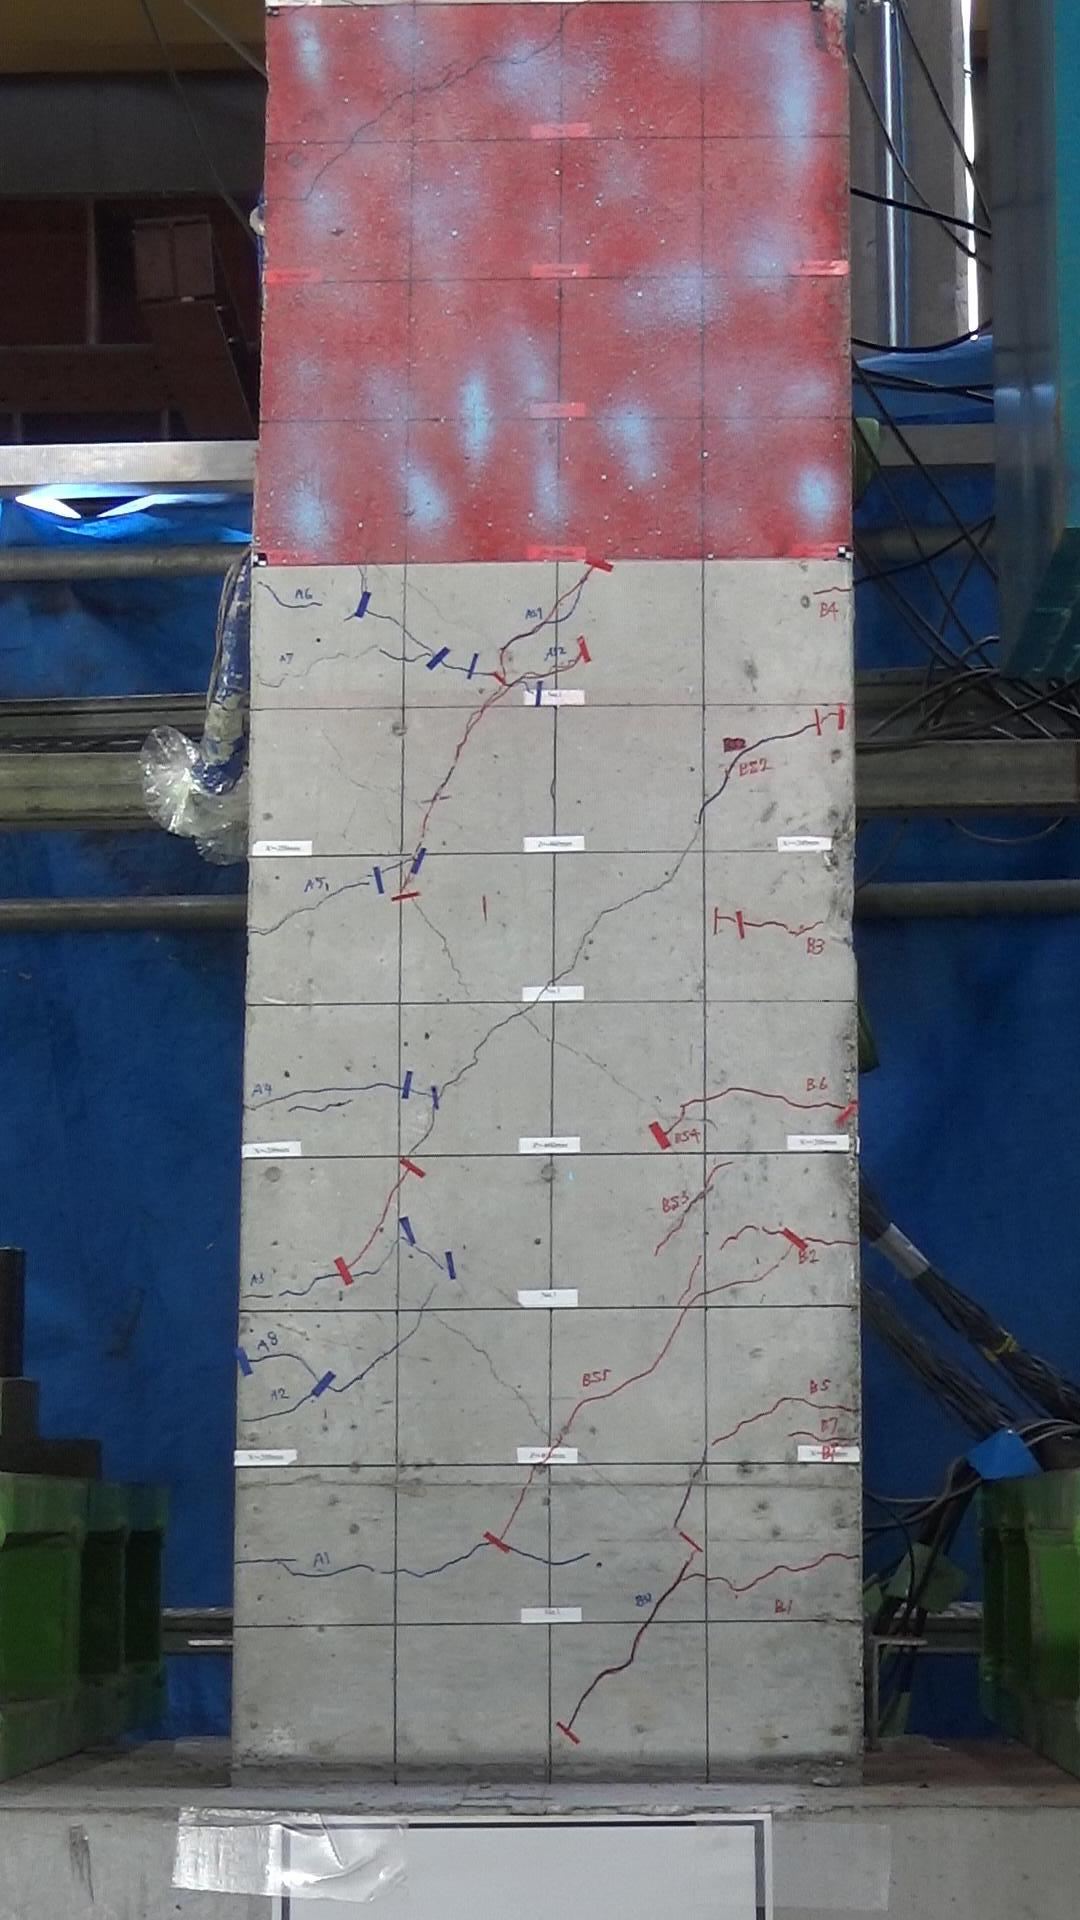Flexure Crack: (295, 1270, 345, 1292), (796, 715, 839, 736), (375, 653, 429, 665), (752, 733, 804, 744), (814, 584, 853, 597), (247, 1292, 299, 1302), (356, 1267, 384, 1282)
Shear Crack: (582, 1461, 629, 1498), (405, 1240, 447, 1273), (430, 1313, 471, 1342), (491, 638, 514, 684), (724, 1220, 760, 1250), (655, 1221, 684, 1255), (476, 1344, 501, 1383), (611, 1370, 653, 1393), (442, 953, 465, 992), (562, 1399, 588, 1433), (434, 762, 459, 798), (506, 1383, 533, 1416), (680, 819, 703, 857), (386, 833, 410, 866), (438, 657, 472, 679), (658, 1325, 684, 1354), (695, 1440, 721, 1469), (550, 1036, 585, 1058), (669, 1498, 692, 1530), (427, 920, 448, 953), (622, 1081, 647, 1109), (483, 686, 512, 709), (353, 1234, 376, 1265), (378, 807, 401, 837), (578, 560, 600, 591), (506, 628, 541, 647), (696, 793, 720, 820), (364, 1353, 397, 1373), (380, 1240, 400, 1273), (732, 744, 757, 769), (405, 891, 426, 920), (334, 1375, 364, 1395), (369, 607, 400, 626), (589, 1059, 616, 1081), (401, 626, 427, 649), (696, 1170, 713, 1204), (583, 1386, 617, 1403), (521, 1018, 549, 1039), (452, 735, 473, 762), (687, 1465, 705, 1497), (377, 1199, 396, 1229), (390, 1332, 417, 1353), (504, 1506, 520, 1540), (392, 1168, 410, 1197), (371, 570, 400, 588), (353, 568, 369, 601), (467, 709, 487, 736), (666, 858, 684, 886), (684, 1265, 699, 1296), (419, 807, 433, 841), (425, 600, 446, 621), (421, 1284, 438, 1309), (400, 582, 425, 599), (539, 1424, 560, 1444), (678, 1299, 694, 1325), (721, 767, 733, 796), (560, 582, 578, 601), (522, 1469, 533, 1501), (547, 597, 560, 621), (415, 1309, 427, 1332), (568, 599, 580, 621), (653, 1350, 665, 1373)
